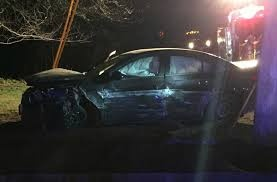Scratch: (99, 89, 168, 122)
Smashed: (18, 69, 96, 128)
